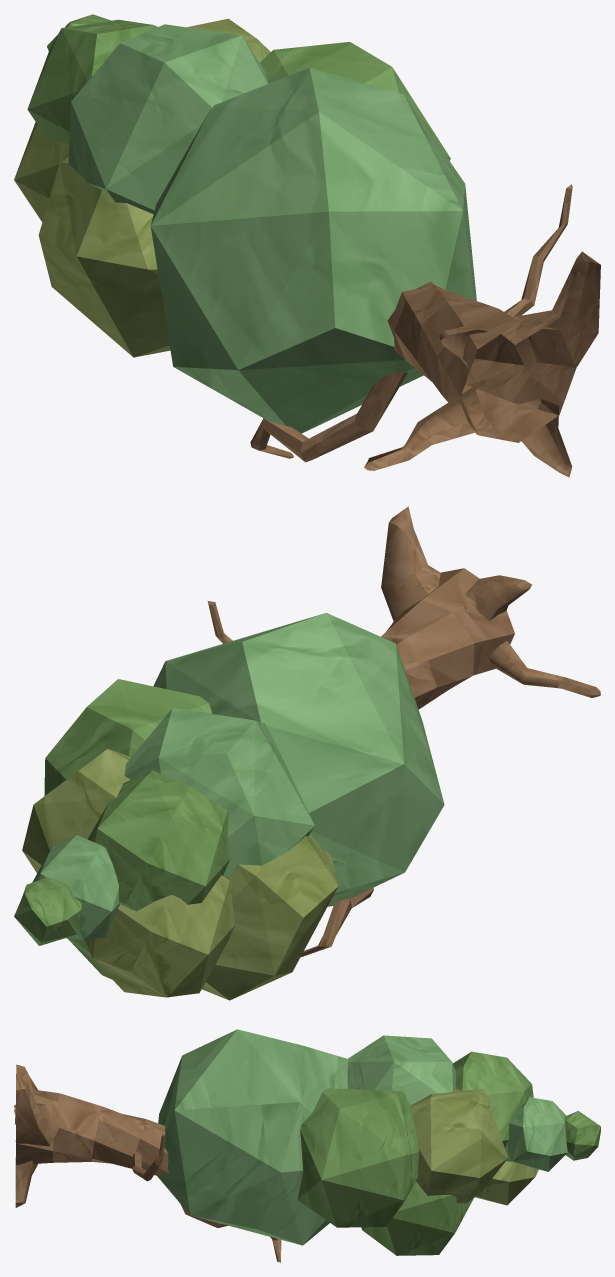
File: chunkyTreeFallStraight.FBX
3 renders of one model, top to bottom at view 1: azimuth 30°, elevation 25°; view 2: azimuth 150°, elevation 25°; view 3: azimuth 270°, elevation 25°, orthographic. The views are drawn at different scales.
Visible parts, largest first — view 1: Cylinder009; view 2: Cylinder009; view 3: Cylinder009.
Part boxes in pixels (box(x1,y1,x2,y2)): Cylinder009: box(14, 14, 600, 477); Cylinder009: box(14, 506, 600, 1000); Cylinder009: box(14, 1029, 600, 1262).
Bounding box in the file's own units: 216 × 231 × 531.
Materials: 4 (4 with a texture image).
